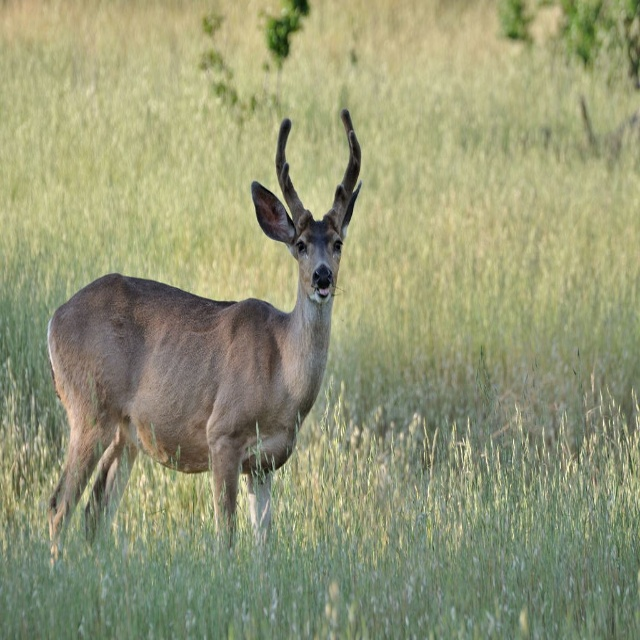Deer: (46, 108, 363, 573)
